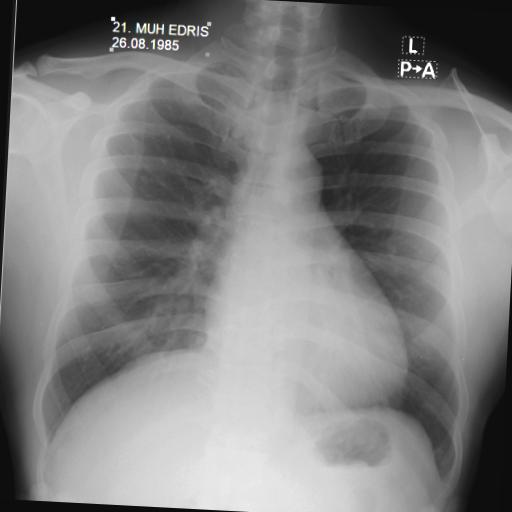kardiomegali: (30, 29, 486, 494)
